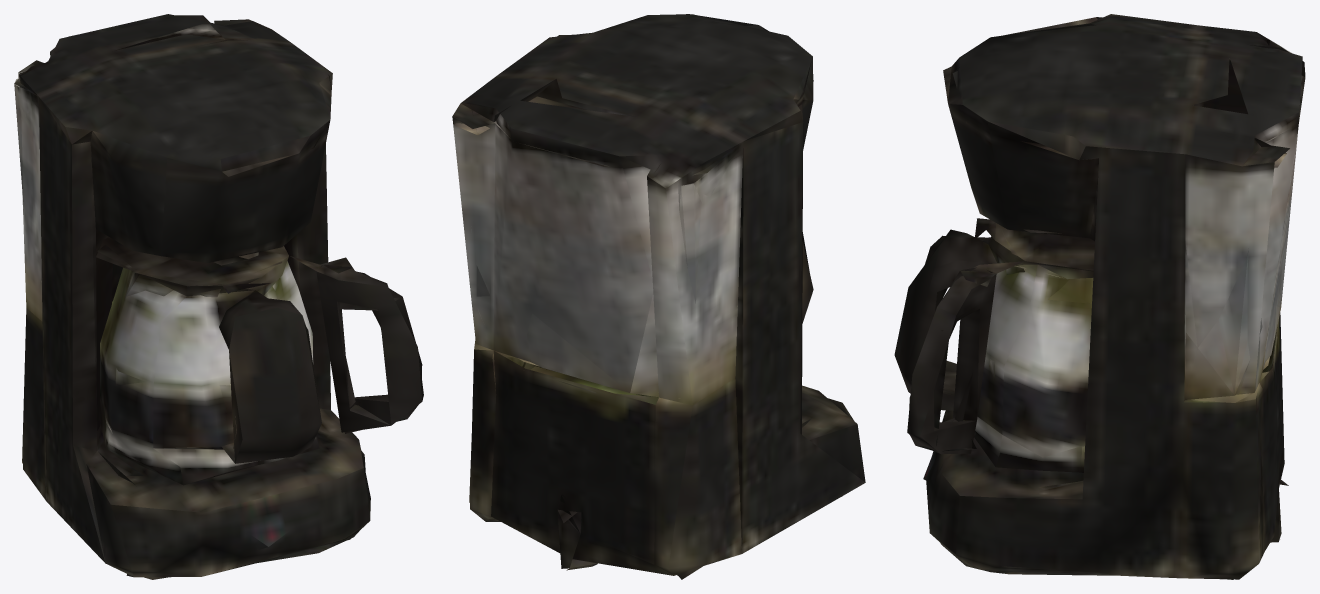
Rendered from p7-drip-coffee-maker.glb.
The picture shows the model from 3 angles, left to right: view 1: azimuth 30°, elevation 25°; view 2: azimuth 150°, elevation 25°; view 3: azimuth 270°, elevation 25°; orthographic projection. The views are drawn at different scales.
Visible parts, largest first — view 1: p7-drip-coffee-maker; view 2: p7-drip-coffee-maker; view 3: p7-drip-coffee-maker.
Boxes of the visible parts, x1=… form: p7-drip-coffee-maker: x1=14, y1=14, x2=423, y2=579; p7-drip-coffee-maker: x1=452, y1=14, x2=865, y2=579; p7-drip-coffee-maker: x1=894, y1=14, x2=1305, y2=579.
Size of the model in its own units: 0.25 by 0.38 by 0.3.
Materials: 1 (1 with a texture image).
